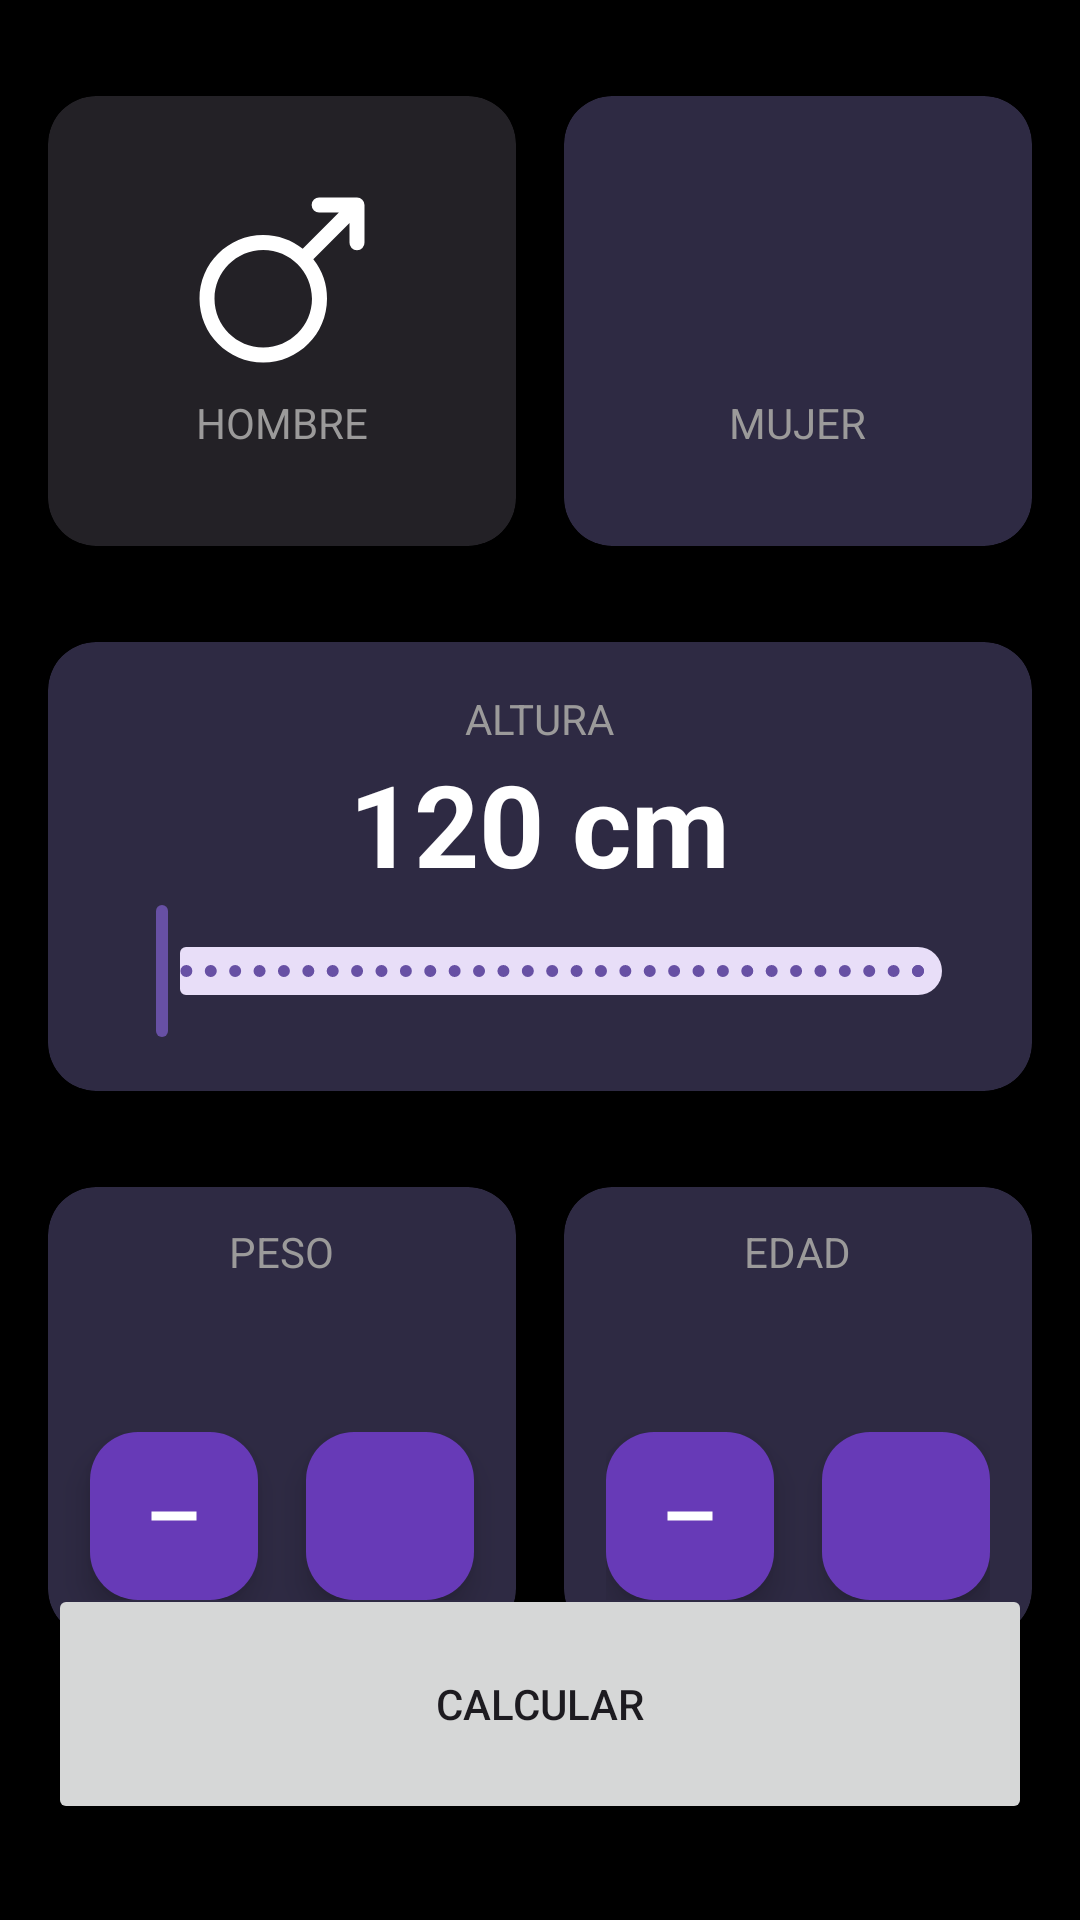

Locate icon controls on the screen. Image size 1080*1920, boxes as bbox=[x1, y1, x2, y2].
subtract: bbox=[90, 1432, 258, 1600], bbox=[606, 1432, 774, 1600]
